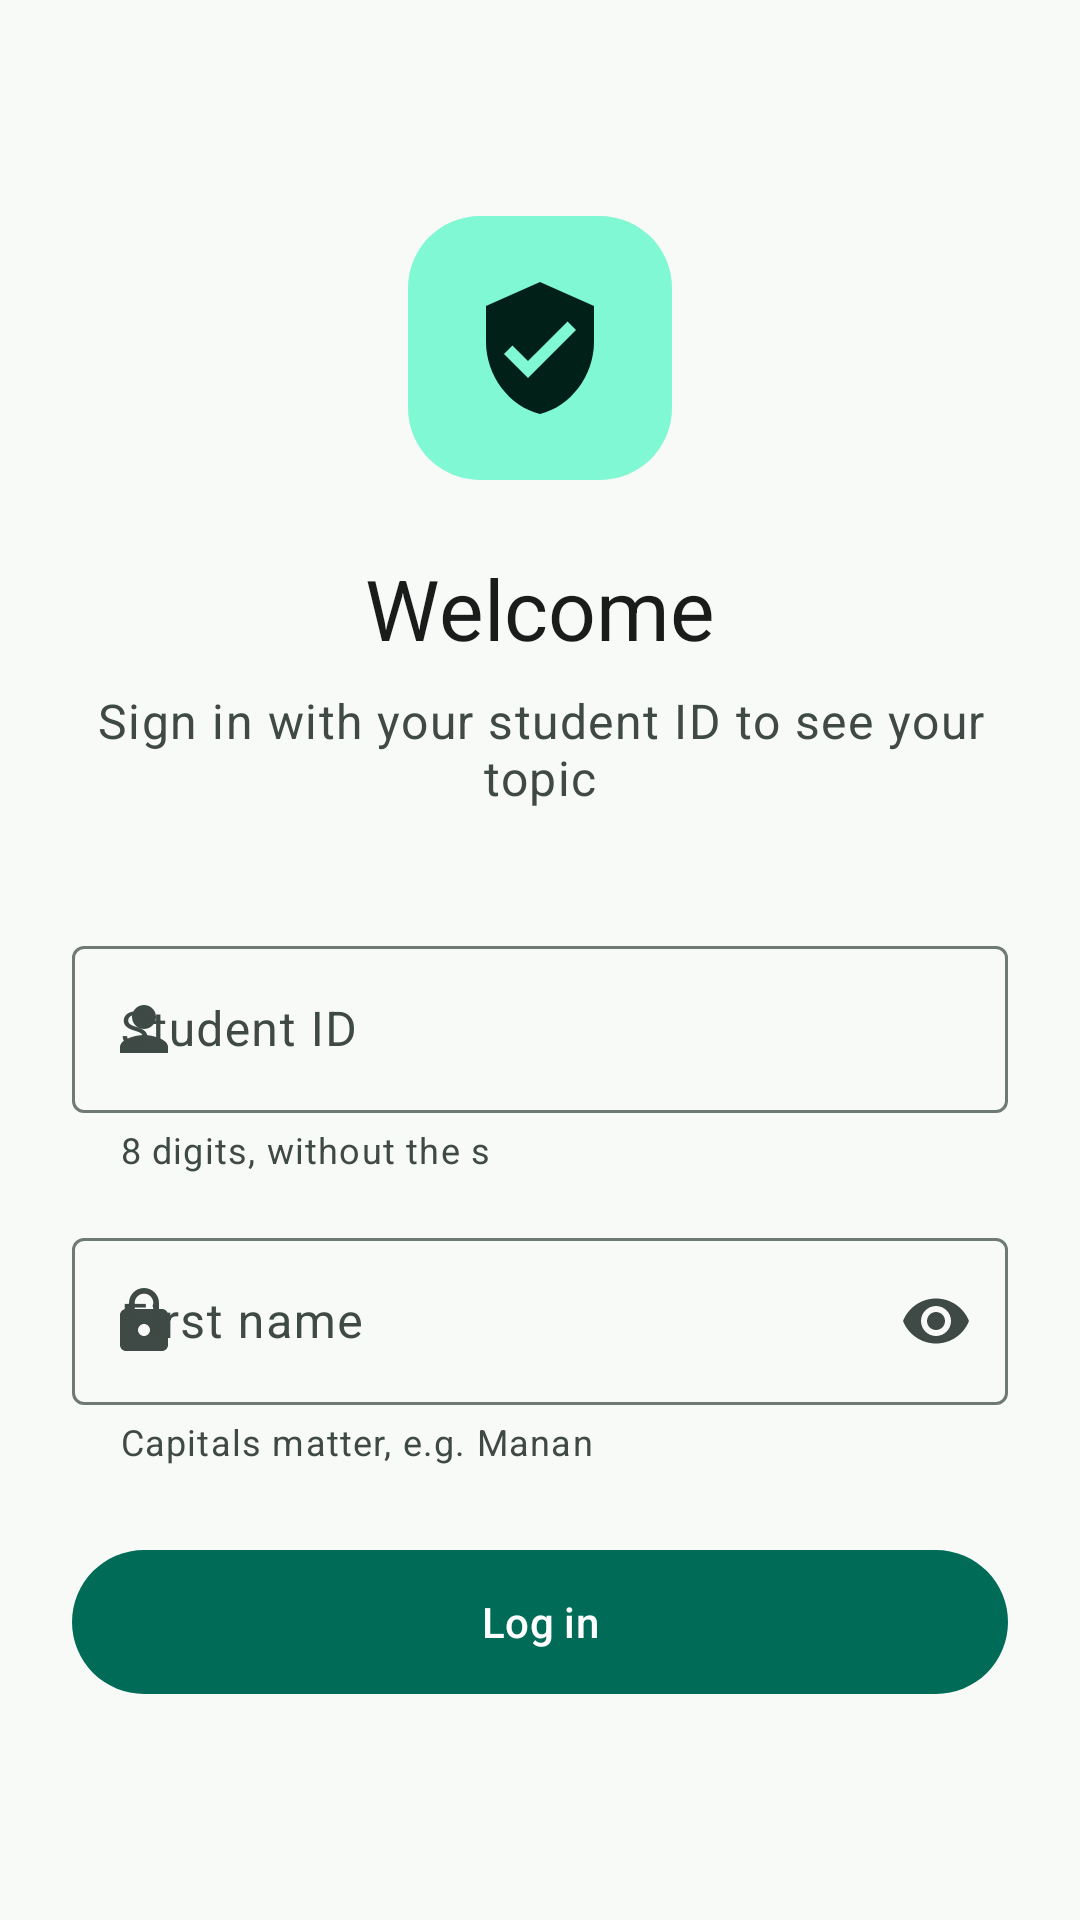

Screen size 1080×1920. Icon name, then its box in pixels as {"x1": x1, "y1": y1, "x2": x2, "y2": y2}:
shield: {"x1": 486, "y1": 282, "x2": 594, "y2": 414}
